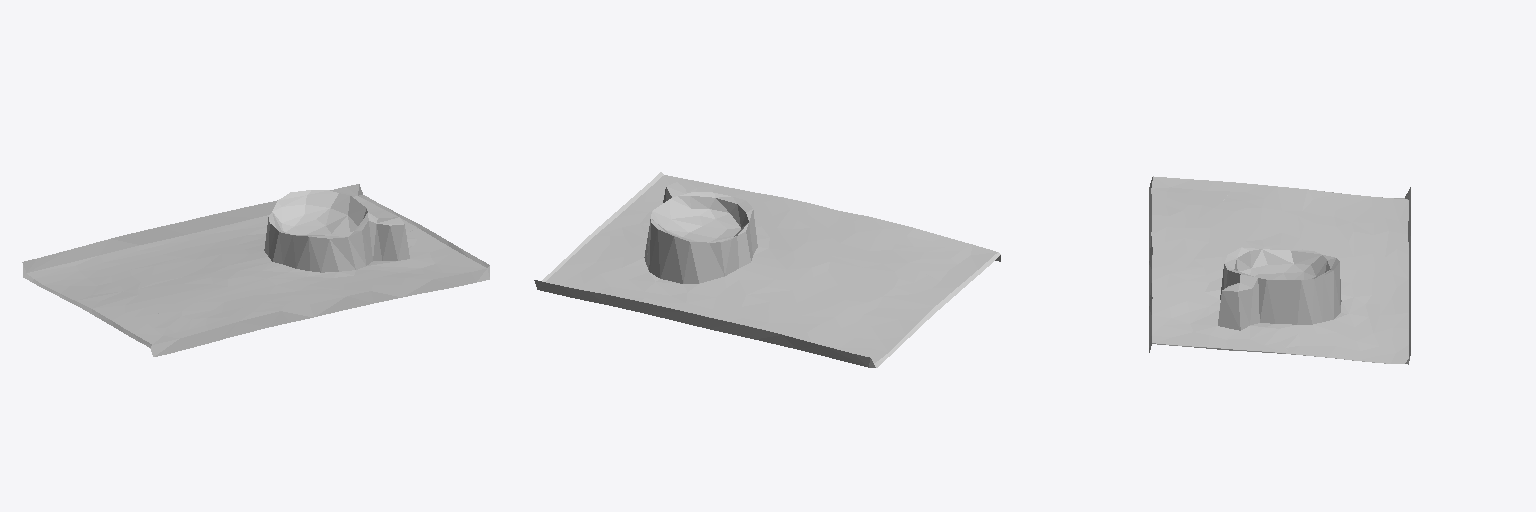
File: table1.obj
3 renders of one model, left to right at view 1: azimuth 30°, elevation 25°; view 2: azimuth 150°, elevation 25°; view 3: azimuth 270°, elevation 25°, orthographic.
Parts seen in each view (by area): view 1: Plane; view 2: Plane; view 3: Plane.
Boxes of the visible parts, box(x1,y1,x2,y2) form: Plane: box(22, 184, 489, 356); Plane: box(534, 172, 1000, 367); Plane: box(1149, 176, 1410, 364).
Size of the model in its own units: 6.02 by 0.924 by 4.01.